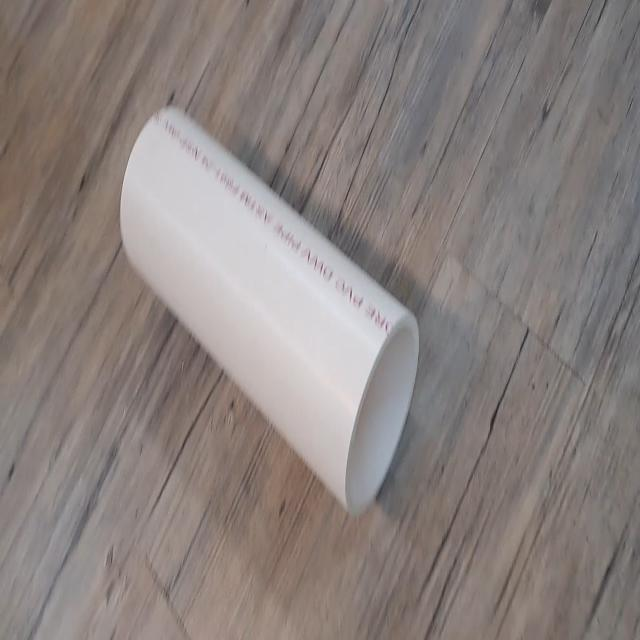CORAL: (118, 93, 424, 526)
